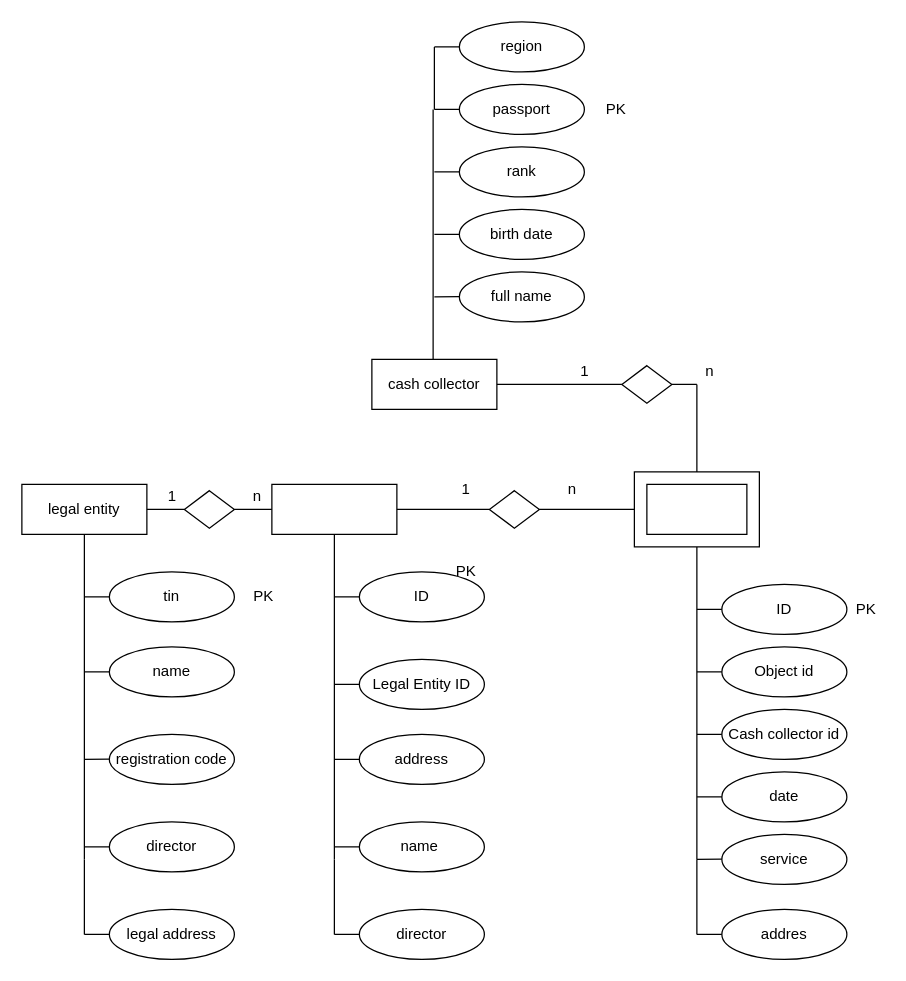
This 906x981 diagram has some shape labels left out. The centre of each missing label's shape, as x and y in pixels:
"object" goes at point (334, 508).
"request" goes at point (696, 509).
